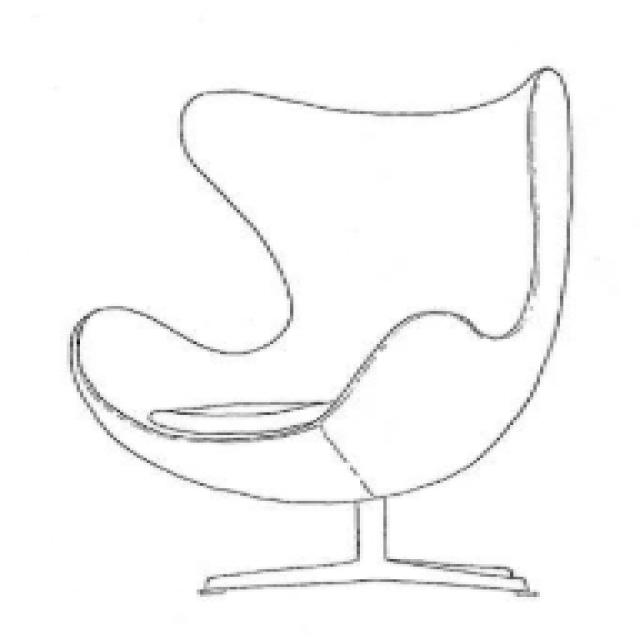egg_armrest: (46, 54, 584, 518)
